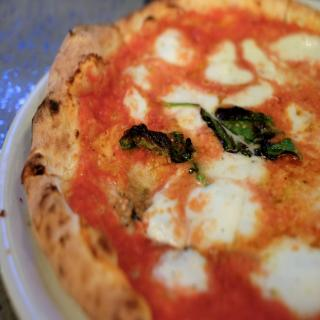Cheese: (23, 2, 320, 319)
Pizza: (21, 0, 320, 317)
